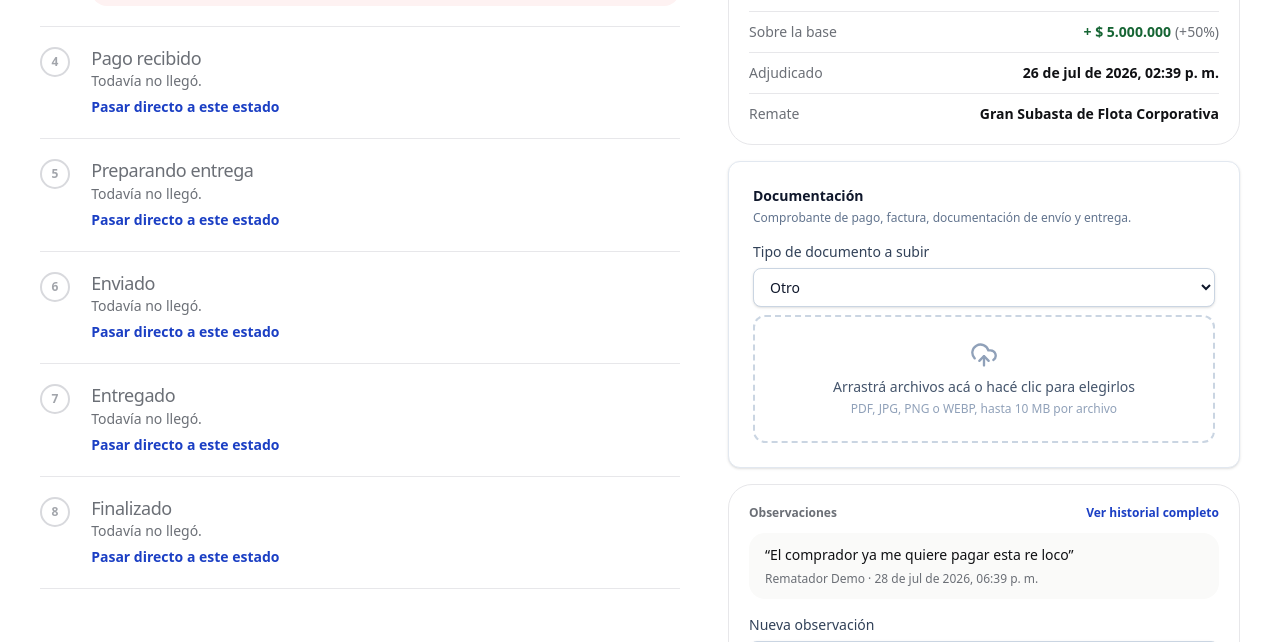
Test: VentaAdjudicadaDetailPage › pasar directo a un estado avisa qué pasos se saltean antes de confirmar
(page scrolled)
Click the button "Pasar directo a este estado" below "Enviado": x=185, y=332 x1=91 y1=322 x2=280 y2=342
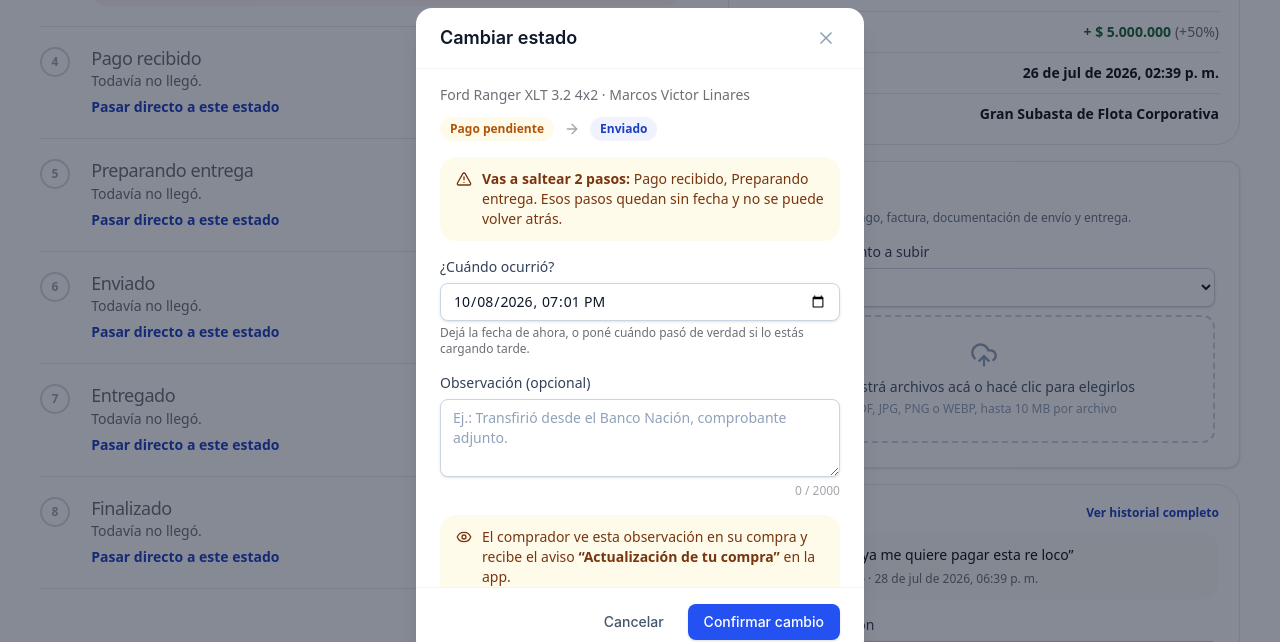
Expected: the text "Vas a saltear 2 pasos:" is shown, x1=482 y1=169 x2=630 y2=188
